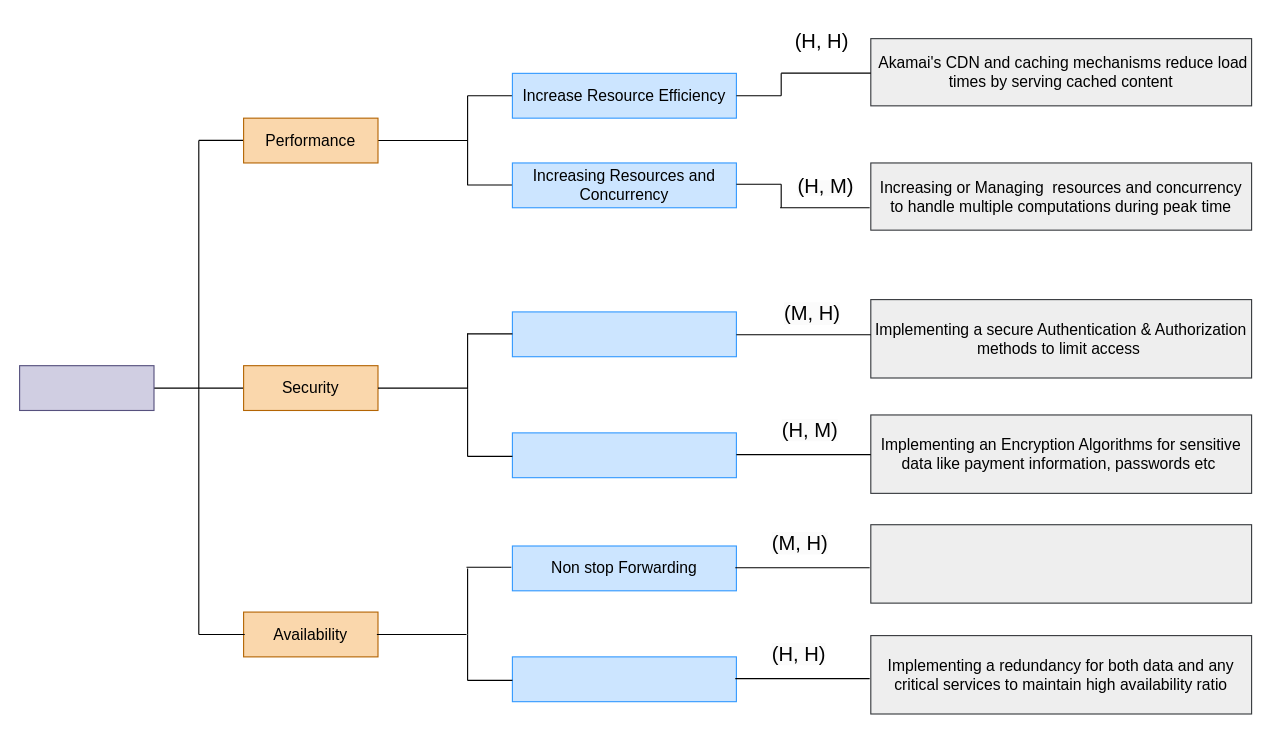
Some shapes in this 1271 by 734 pixel diagram are drawn without their labels. The shapes that lost their labels are listed below. From the top down, each one's centre as x and y in pixels, then its label:
the point at 623,334: Access Control
the point at 86,387: Utility
the point at 623,455: Encryption
the point at 1061,563: Implementing a load balancer to distribute the traffic across multiple instances
the point at 623,679: Redundancy
